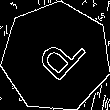P_SW: (25, 26, 87, 88)
